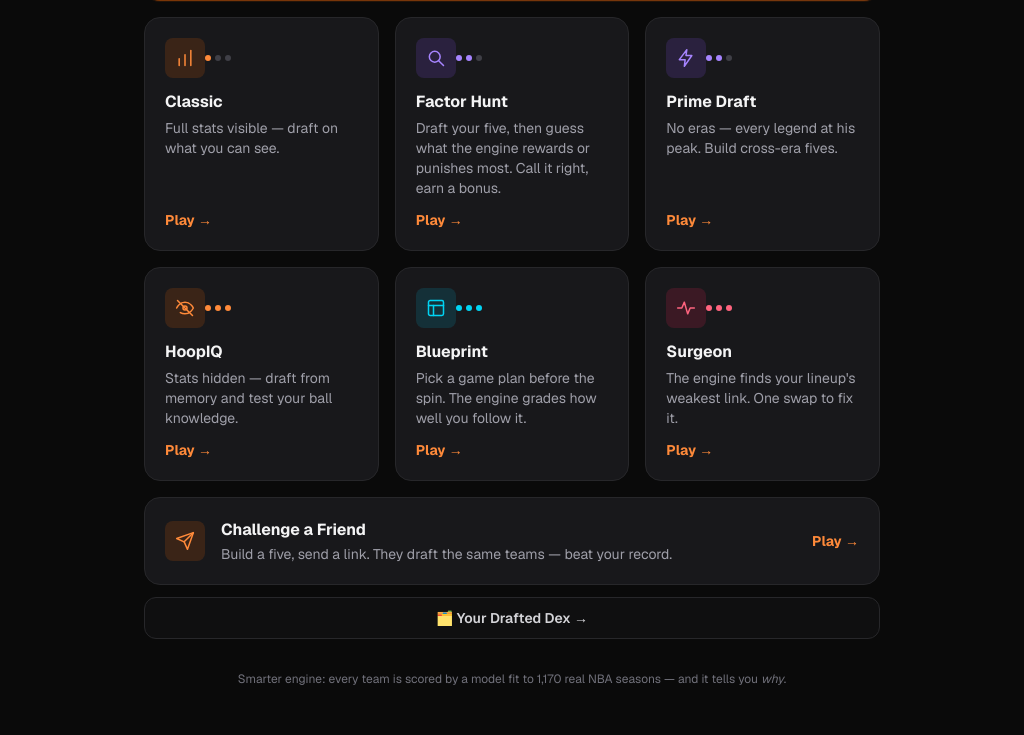
Test: Game — Blueprint commit dialog › Back to all modes button cancels without fetches
(page scrolled)
Click the button with aria-label "Play Blueprint mode". click: {"x": 512, "y": 374}
box: x1=395 y1=266 x2=629 y2=480
(page scrolled)
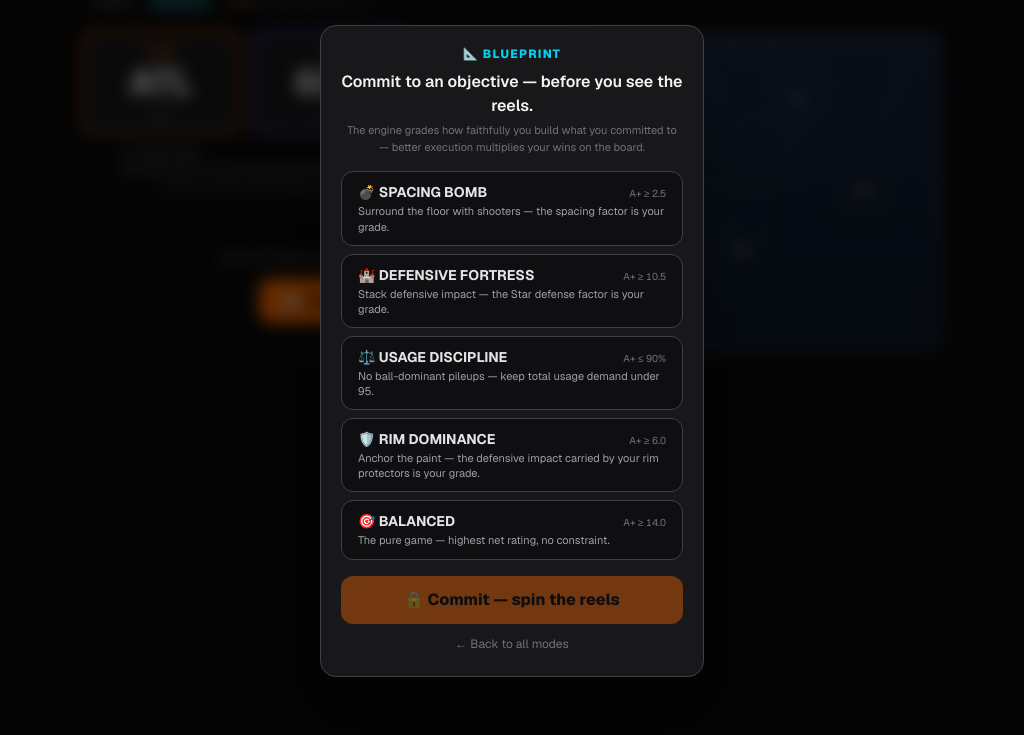
Click the button "← Back to all modes". click: {"x": 512, "y": 644}
box: x1=341 y1=632 x2=683 y2=656
(page scrolled)
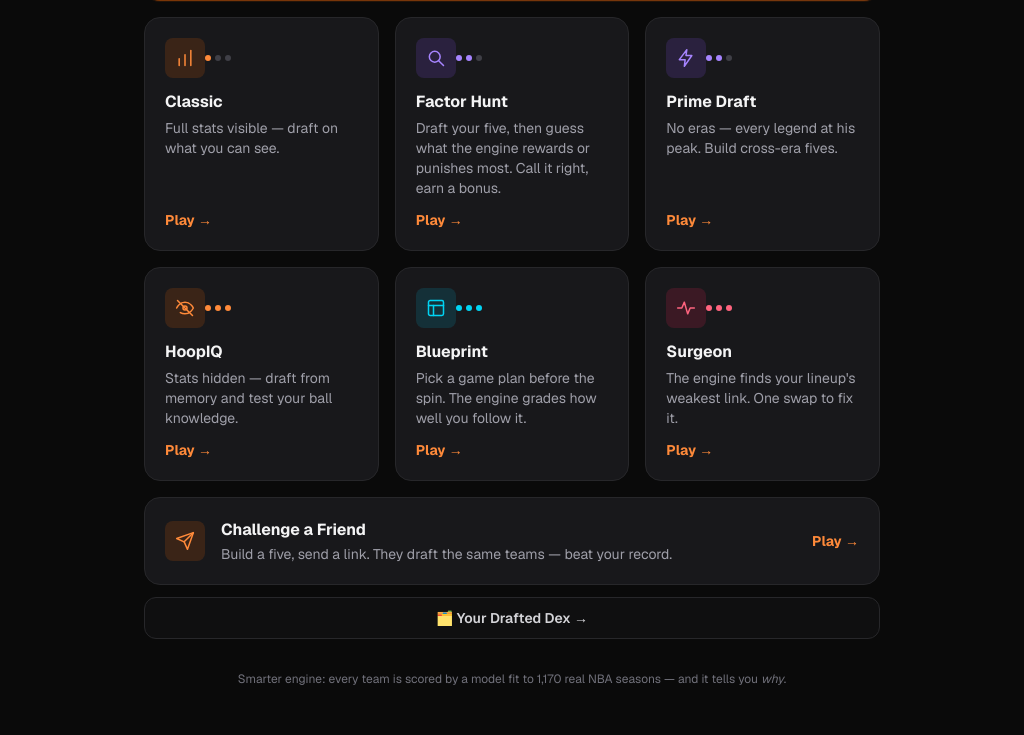
Expected: the button with aria-label "Play Blueprint mode" is shown, x1=395 y1=266 x2=629 y2=480
